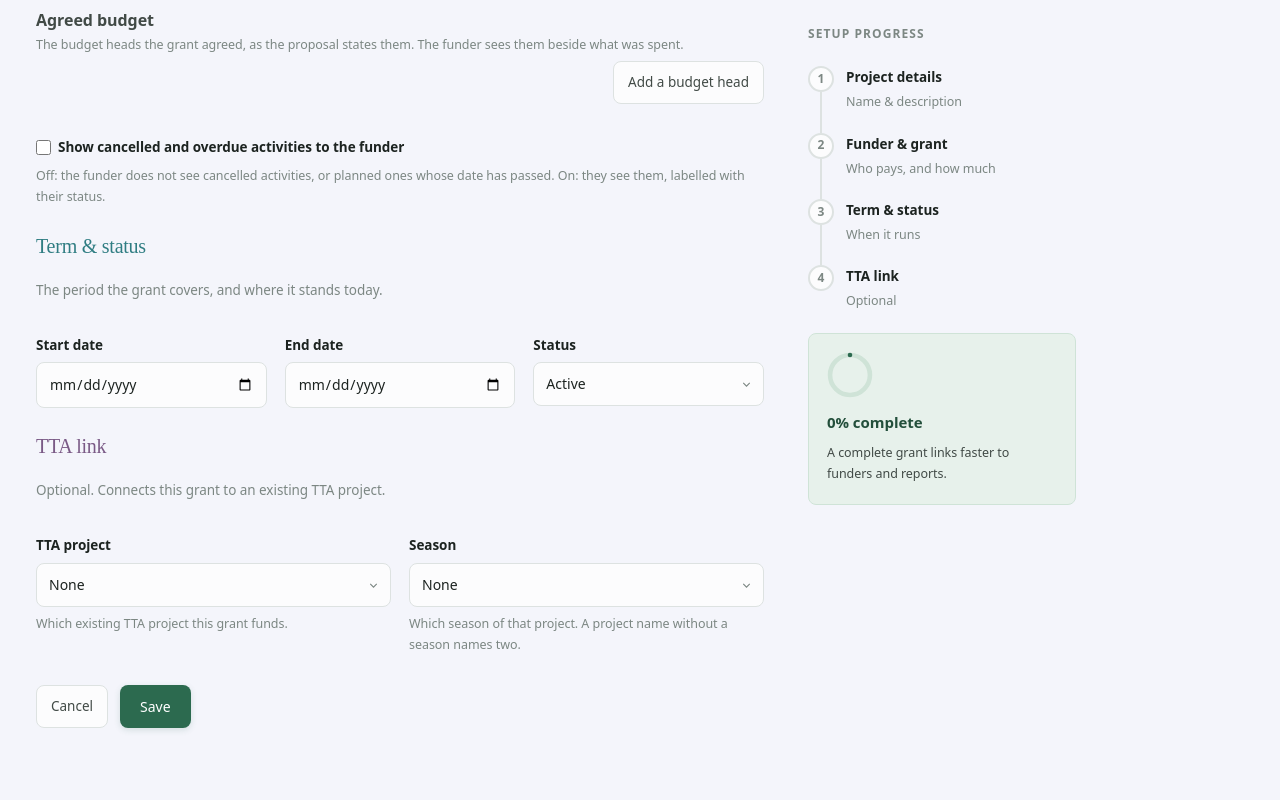
Test: D-019: the grant picks the cities it funds › changing the season clears the cities picked
(page scrolled)
Select "Khelo Girls — Chhattisgarh" in the dropdown labelled "TTA project" at (214, 585), box [36,563,391,607]
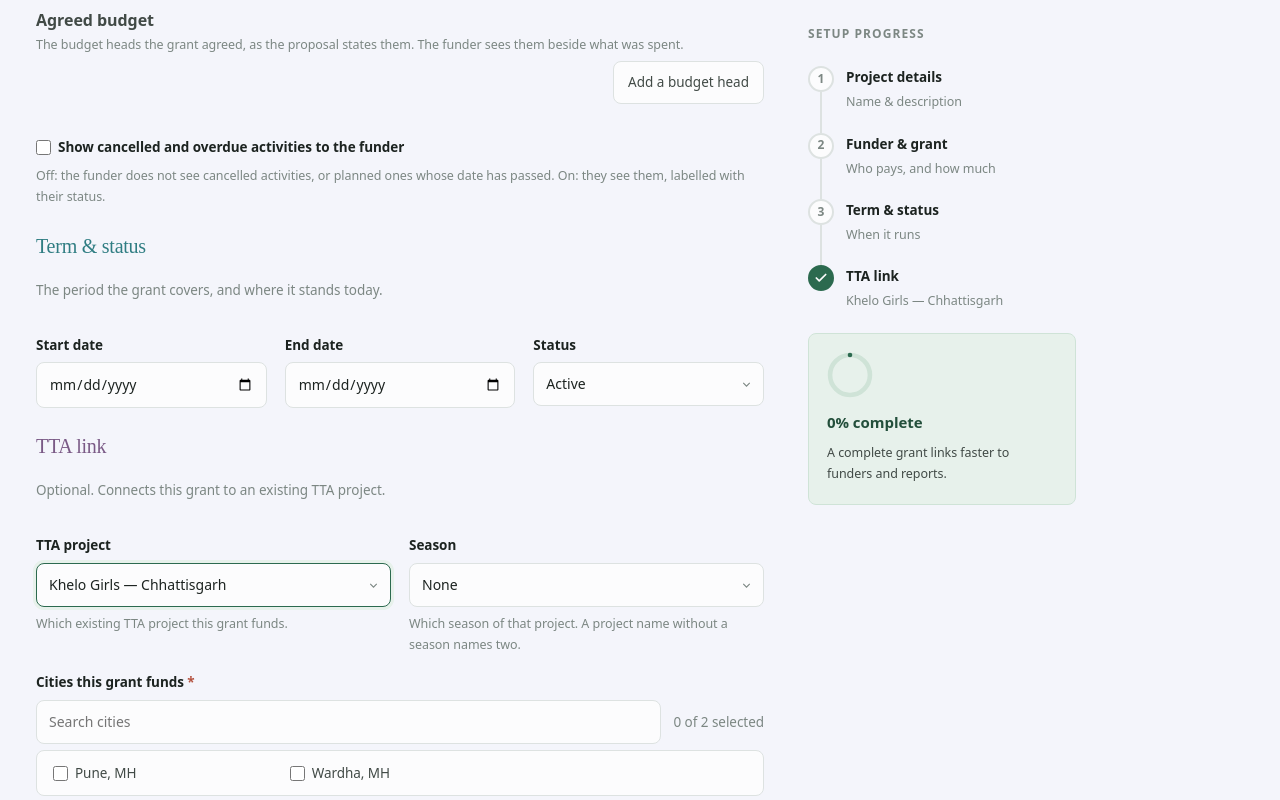
Click the checkbox labelled "Pune, MH".
click(60, 774)  # box [53,766,68,781]
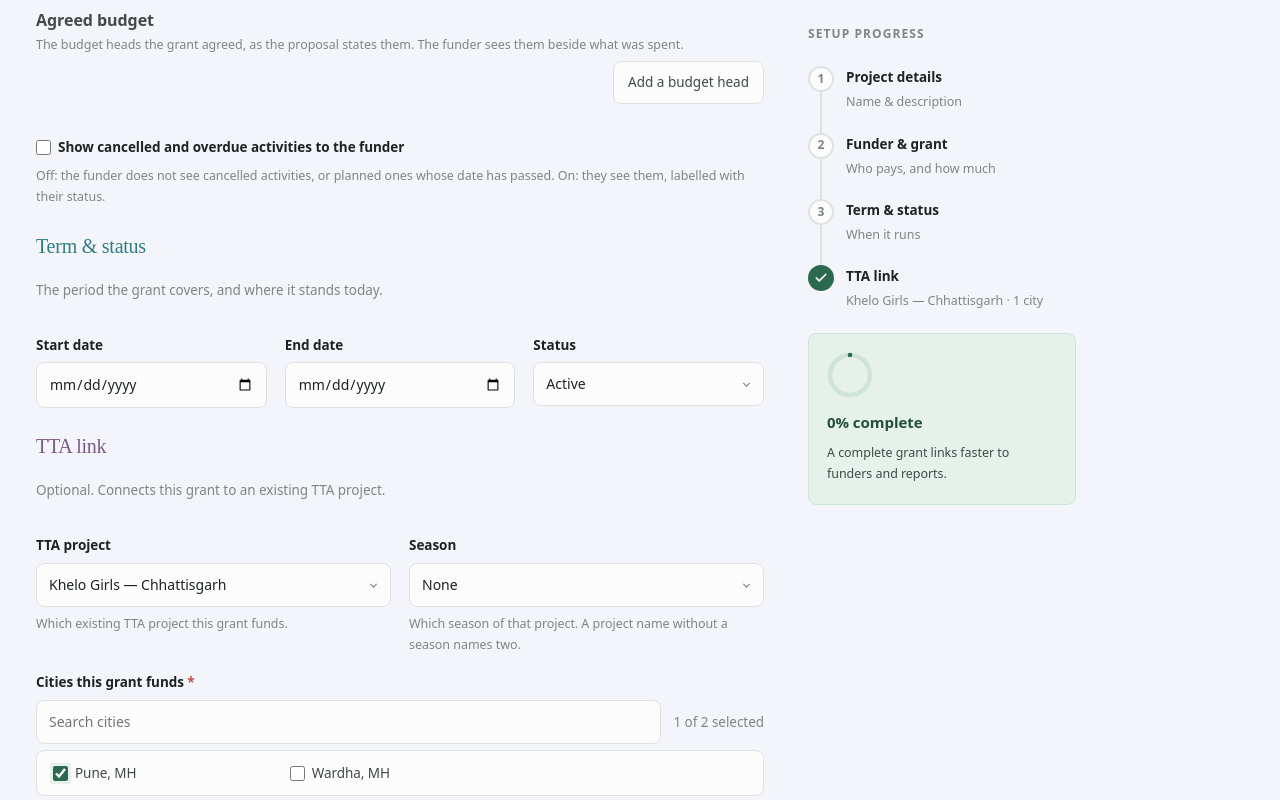
Now the text "1 of 2 selected" is shown, box [674,711,764,734]
Select "Season 1" in the dropdown labelled "Season" at (586, 585), box [409,563,764,607]
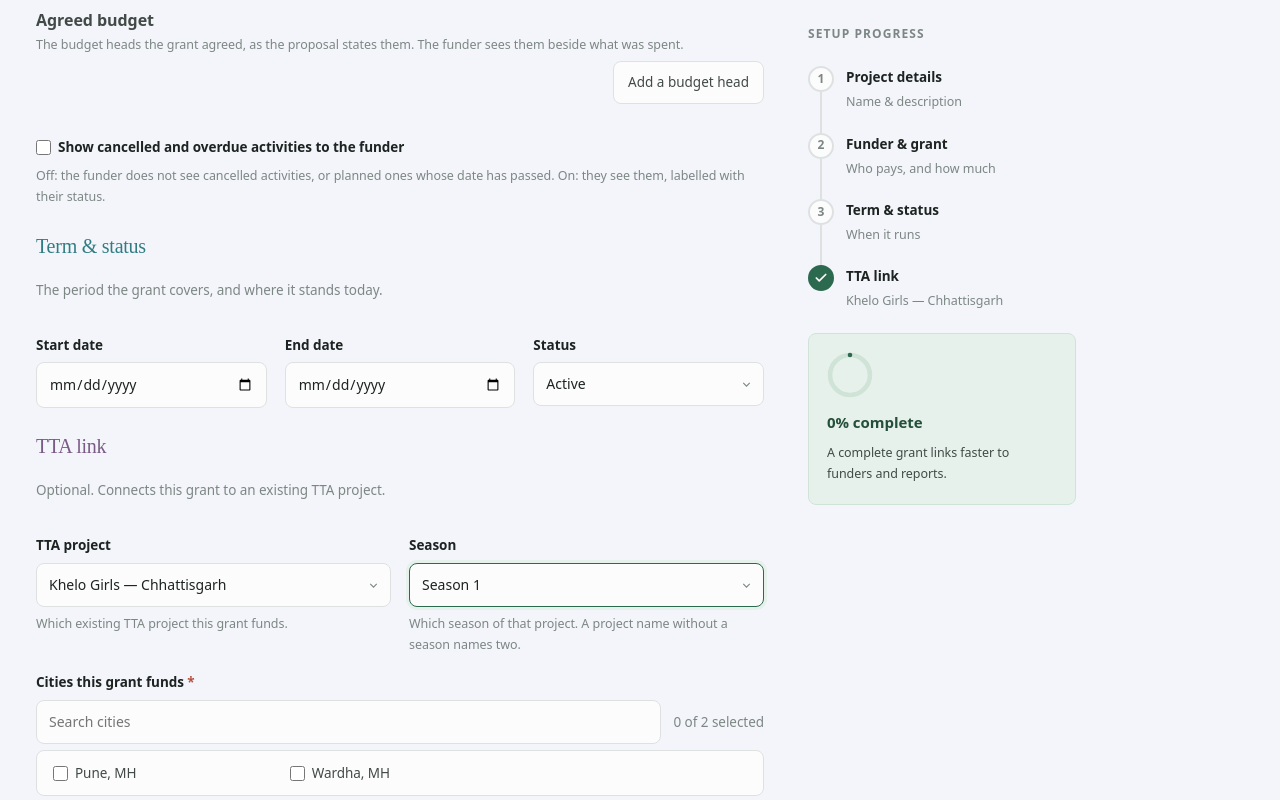
Now the text "0 of 2 selected" is shown, box [674,711,764,734]
